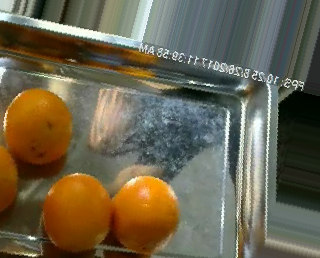Orange: (41, 171, 112, 251), (3, 87, 73, 165), (112, 173, 179, 251)
